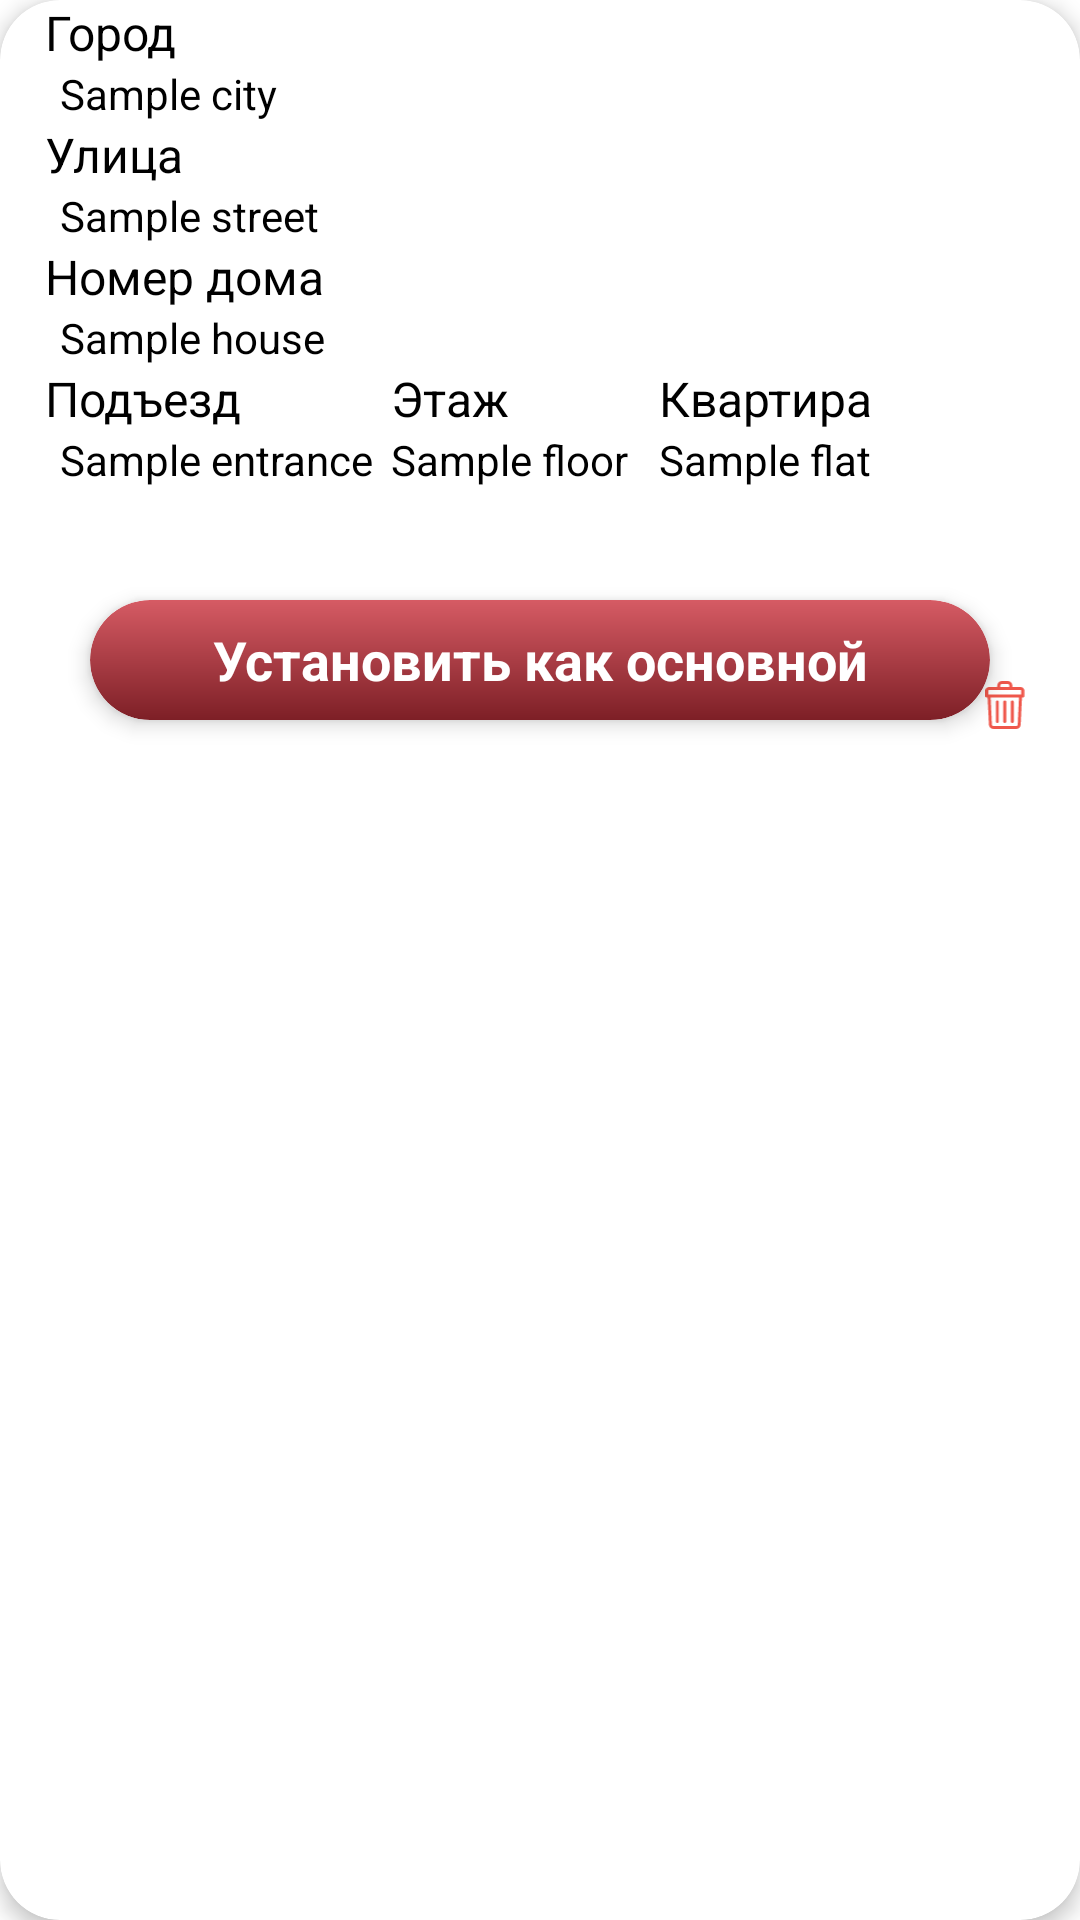

Icons on this 1080w x 1920h Android screen, each with the point to tap as point (x, y):
remove: point (992, 694)
